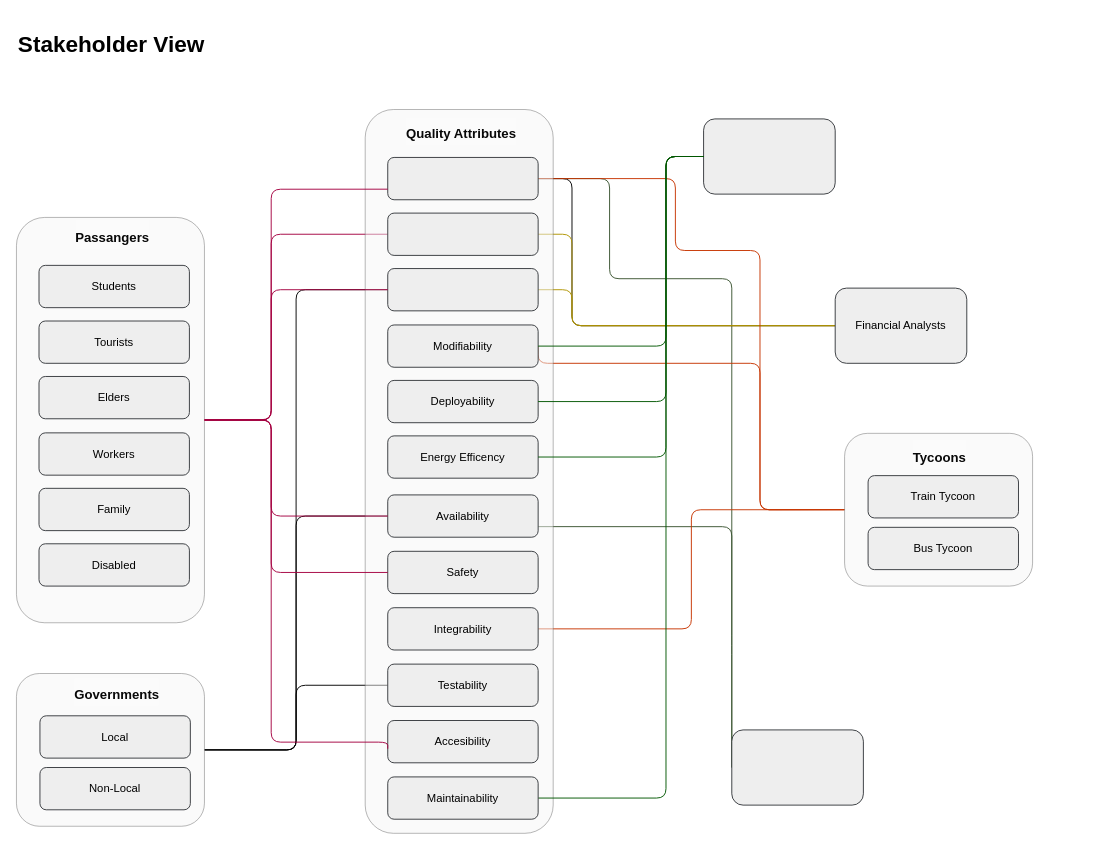
The diagram is 1097 pixels wide and 850 high, and some of its shapes have lost their labels. Here are the shapes that lost their labels. From the top down, the centre of each, then its label:
At (x=769, y=156): "TRIP Owner".
At (x=462, y=178): "Usability".
At (x=462, y=233): "Performance".
At (x=462, y=289): "Security".
At (x=797, y=767): "Customer Service".
